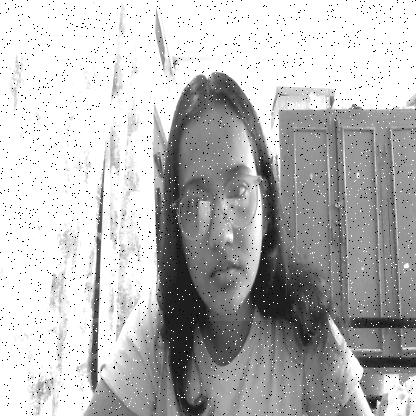Normal: (171, 95, 272, 321)
